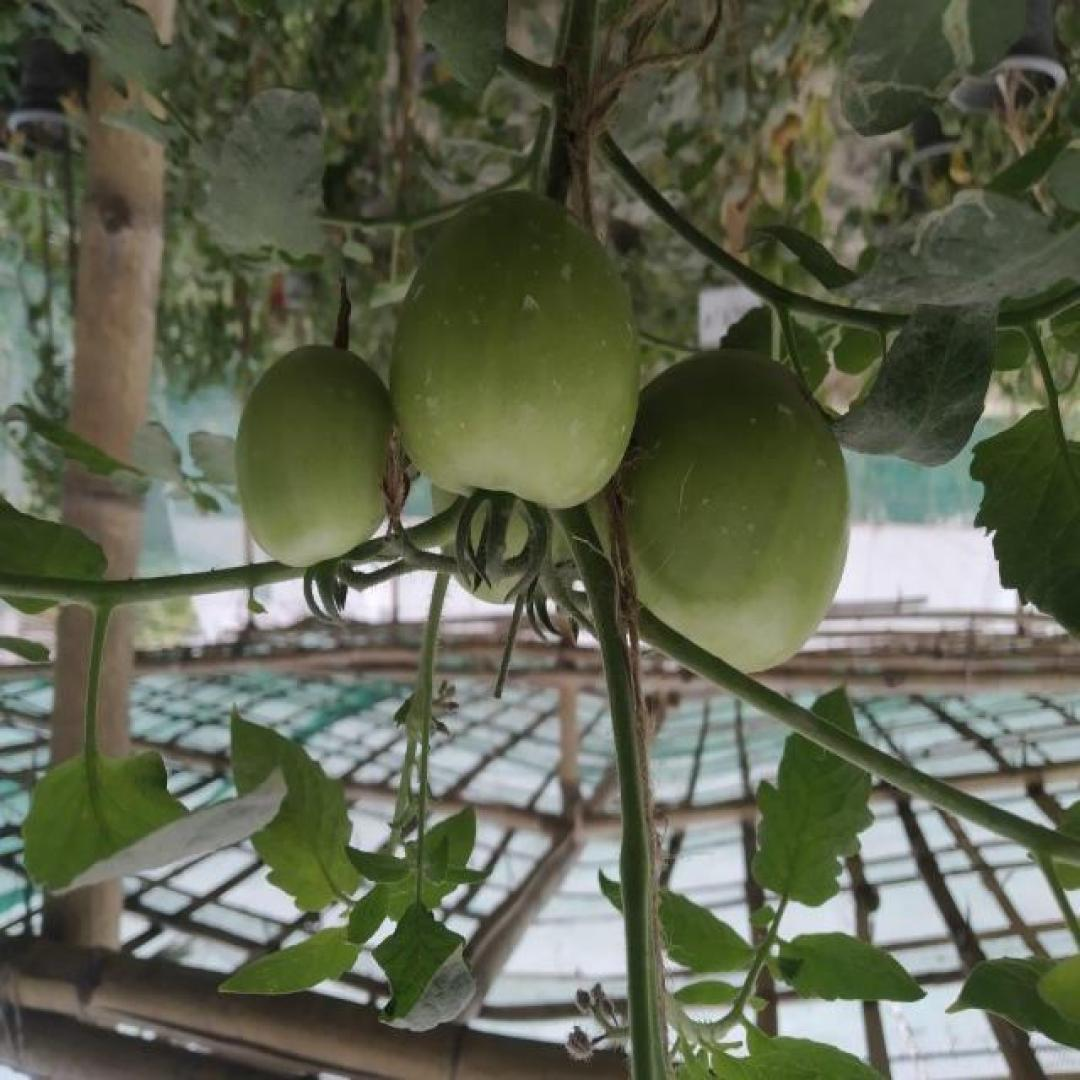mentah: (576, 346, 852, 678), (388, 189, 641, 511), (235, 341, 402, 574)
